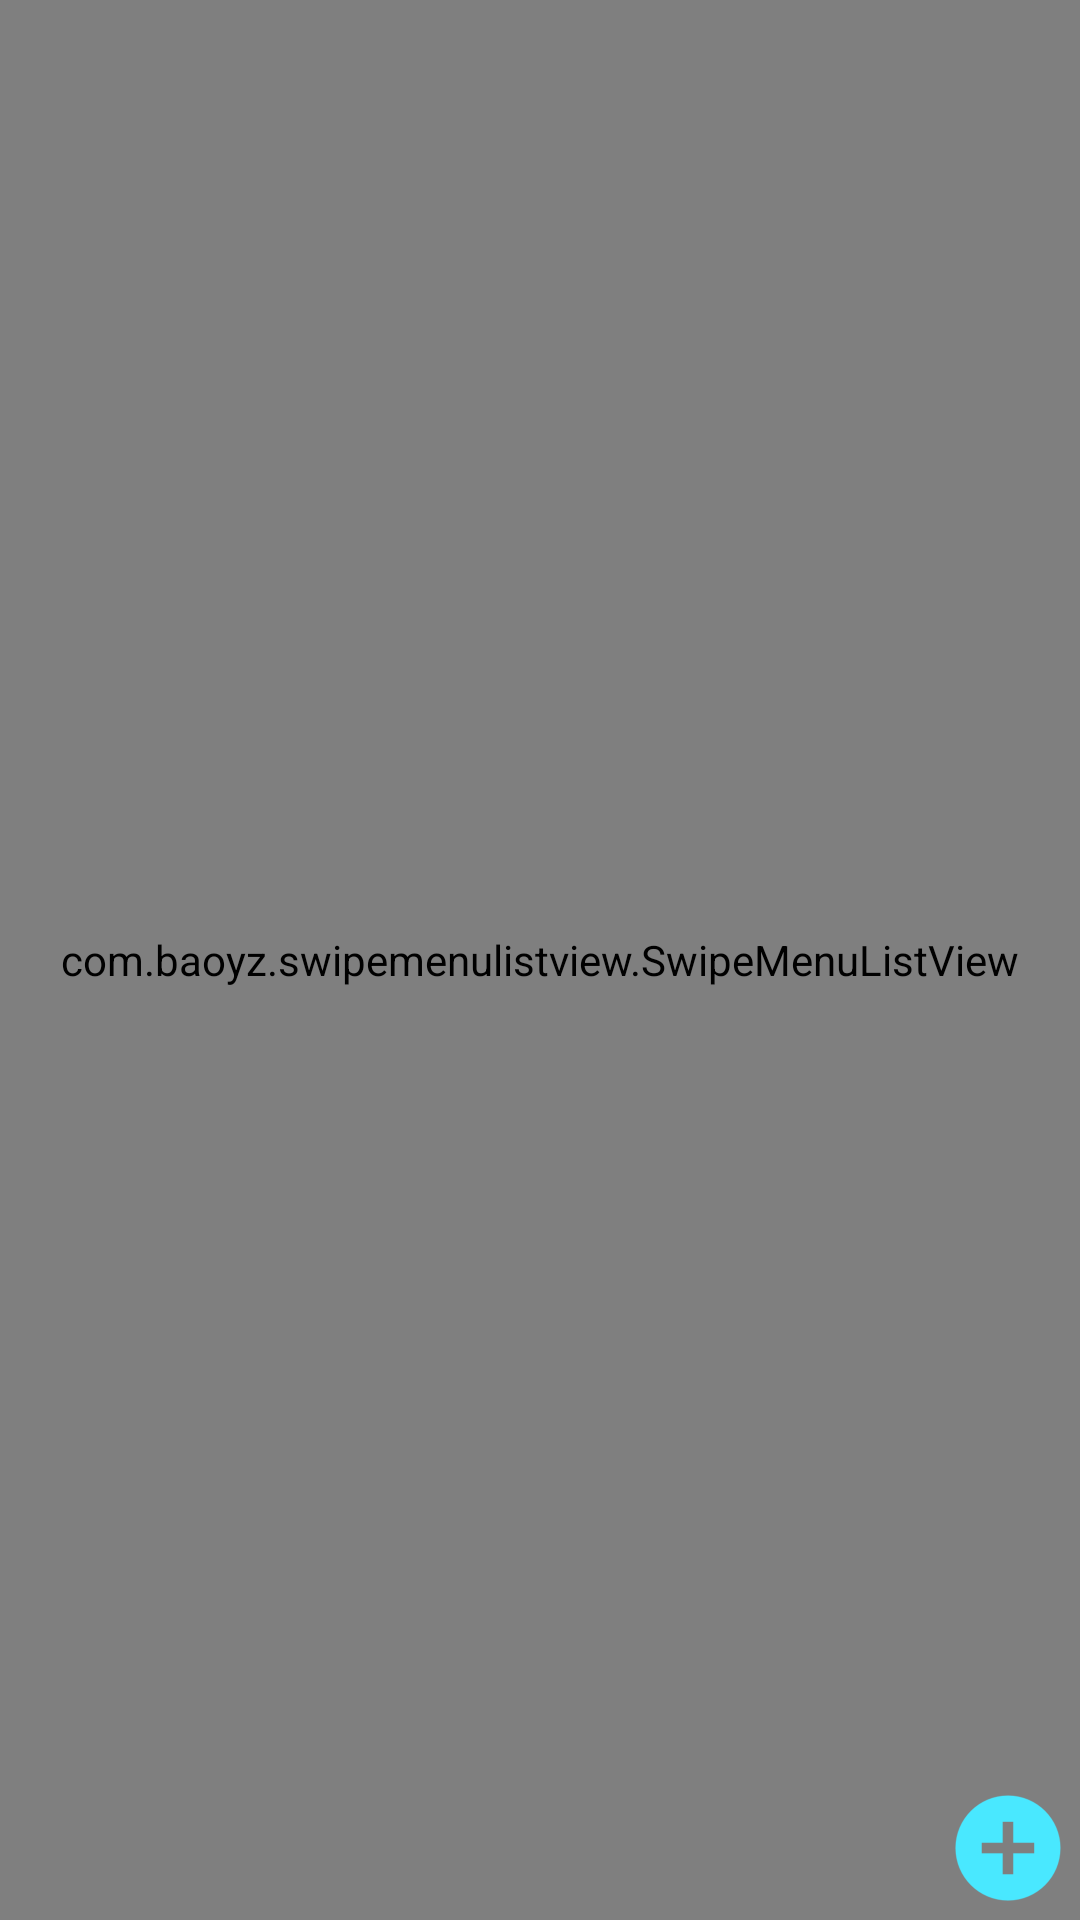

Locate icon controls on the screen. Image size 1080×1920, boxes as (x1, y1, x2, y2).
add: (955, 1795, 1061, 1901)
